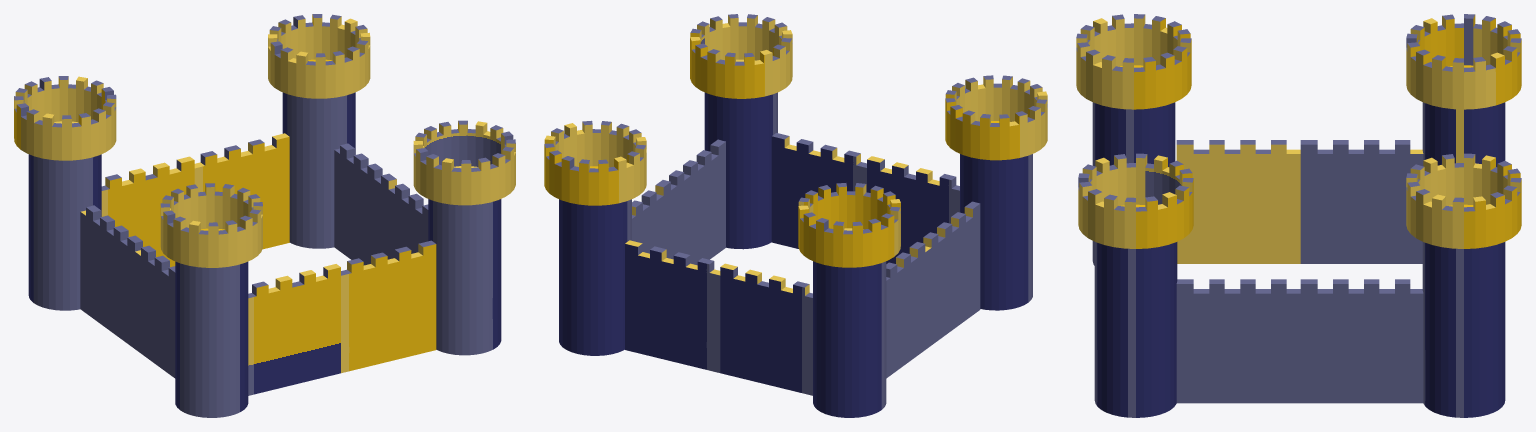
Rendered from castle.fbx.
The picture shows the model from 3 angles, left to right: view 1: azimuth 30°, elevation 25°; view 2: azimuth 150°, elevation 25°; view 3: azimuth 270°, elevation 25°; orthographic projection. The views are drawn at different scales.
Parts seen in each view (by area): view 1: Cube.003; view 2: Cube.003; view 3: Cube.003.
Part boxes in pixels (x1,y1,x2,y2): Cube.003: [14, 14, 515, 417]; Cube.003: [544, 14, 1047, 417]; Cube.003: [1076, 14, 1521, 417].
Size of the model in its own units: 2160 by 1191 by 2160.
